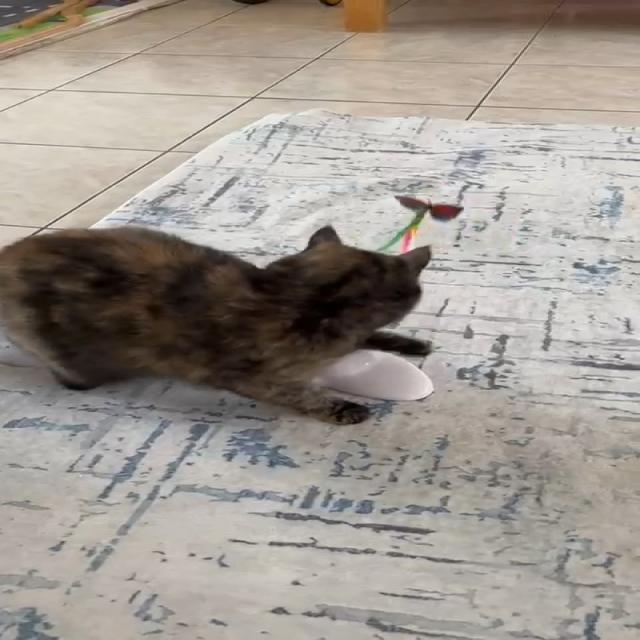authorized: (0, 222, 435, 426)
